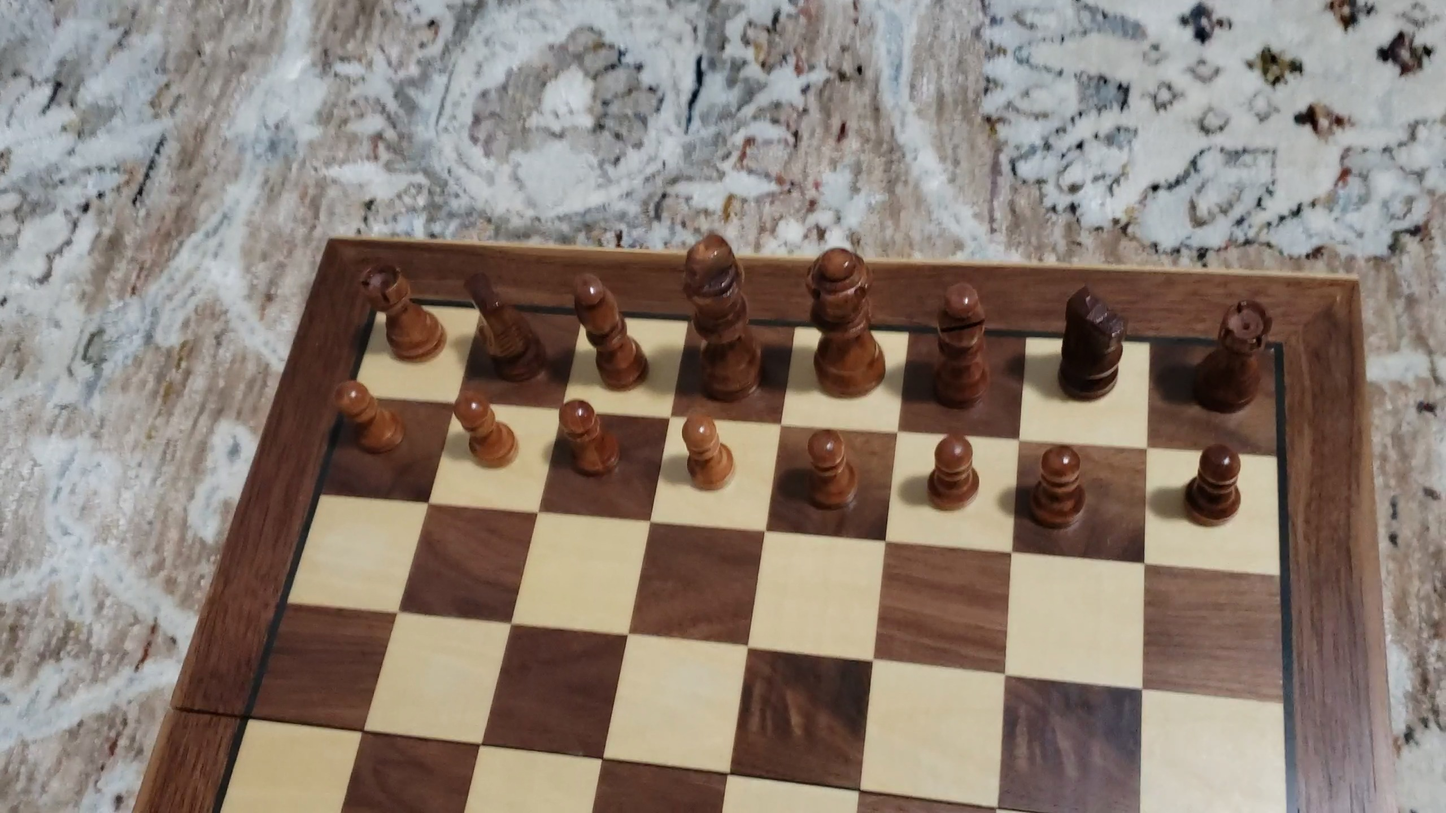black-bishop: (570, 269, 649, 391), (930, 278, 991, 410)
black-king: (680, 230, 764, 402)
black-knight: (463, 269, 548, 383), (1055, 285, 1130, 401)
black-pawn: (329, 377, 407, 457), (1025, 441, 1089, 534), (1182, 440, 1246, 530), (554, 396, 622, 480), (452, 387, 519, 470), (802, 425, 862, 515), (924, 431, 982, 514), (680, 410, 736, 494)
black-queen: (801, 244, 888, 399)
black-rook: (1190, 299, 1273, 416), (358, 261, 447, 363)
